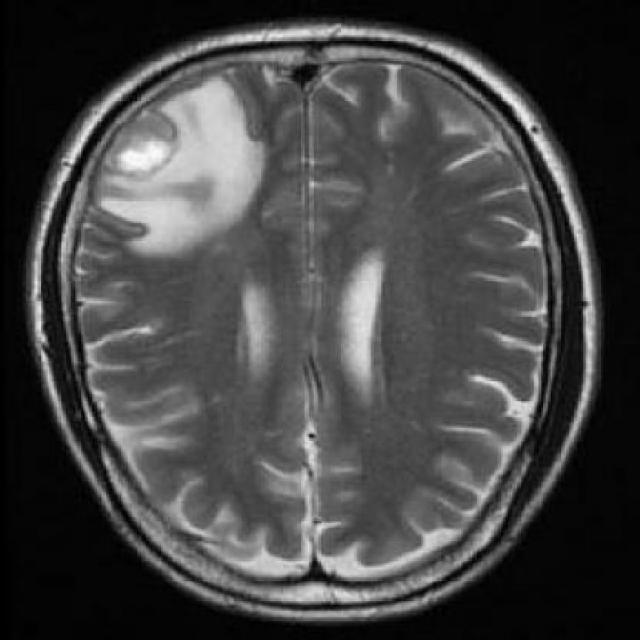Brain-Tumor: (69, 61, 286, 266)
